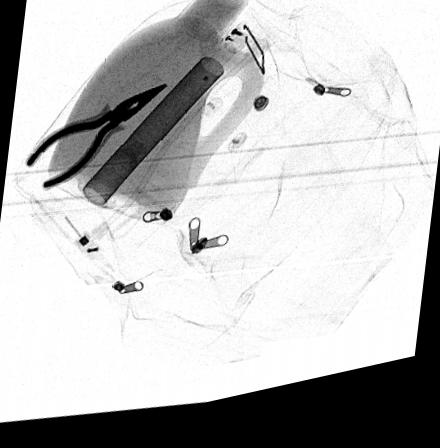Pliers: (24, 91, 169, 190)
